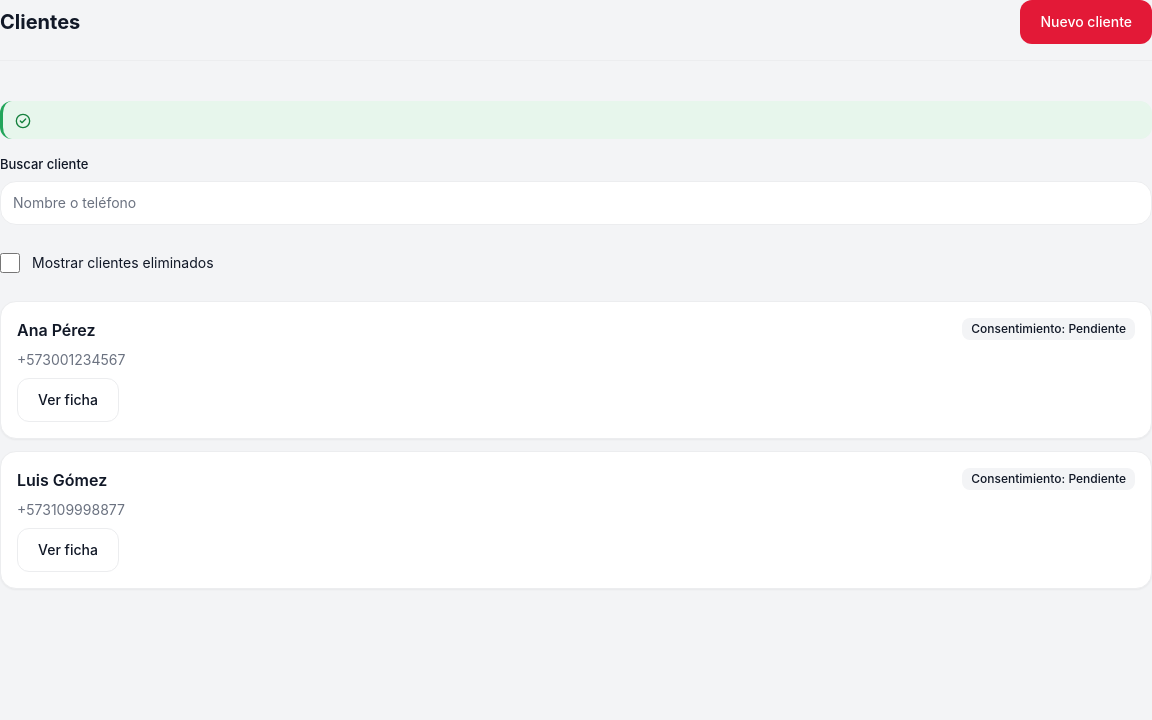
it: CustomersPage › alta de cliente › precarga +57 en el teléfono
Click the button "Nuevo cliente".
click(1086, 22)  # box [1020, 0, 1151, 44]
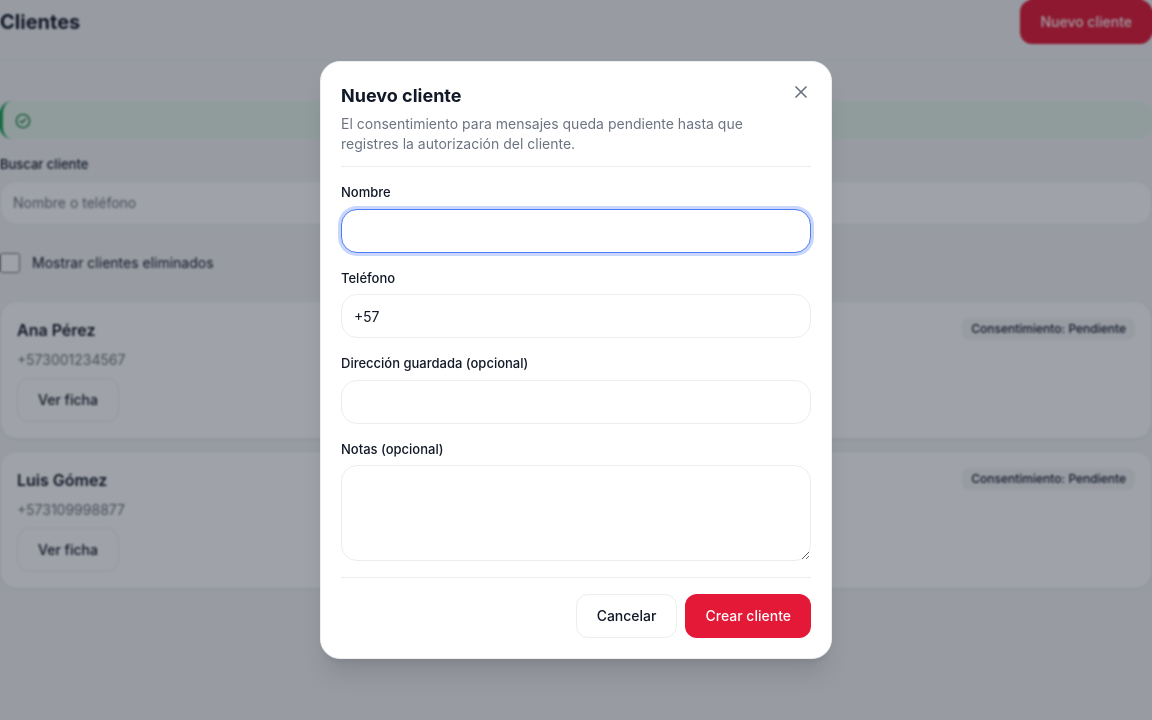
Check: the field labelled "Teléfono" holds "+57", box [341, 294, 811, 338]
